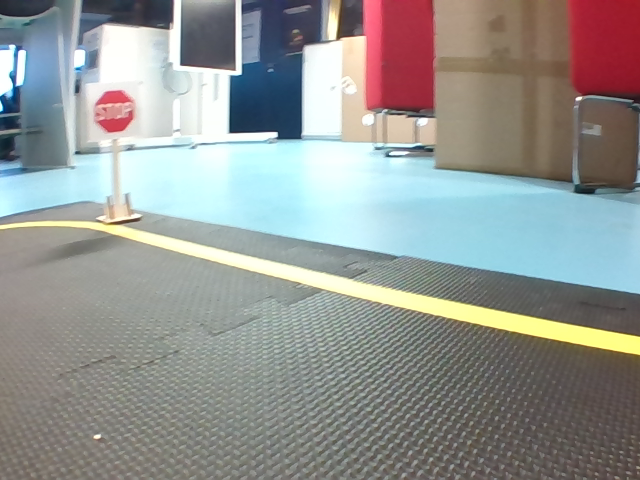stop: (85, 83, 143, 135)
